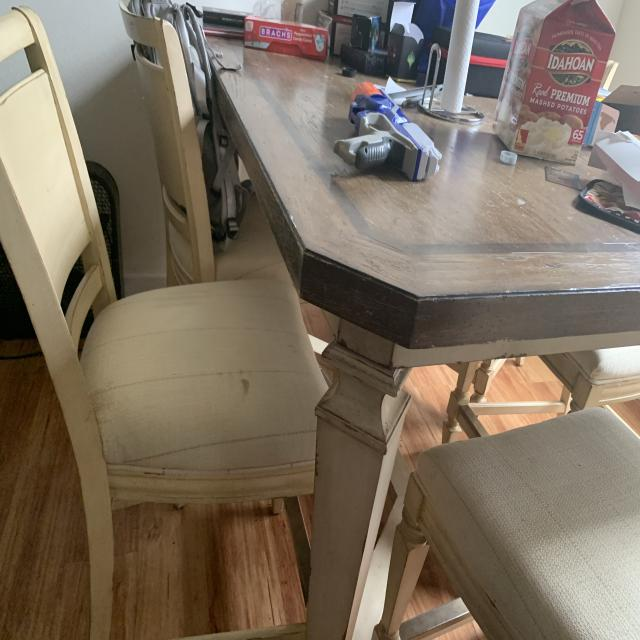nerf-maverik: (329, 67, 446, 191)
